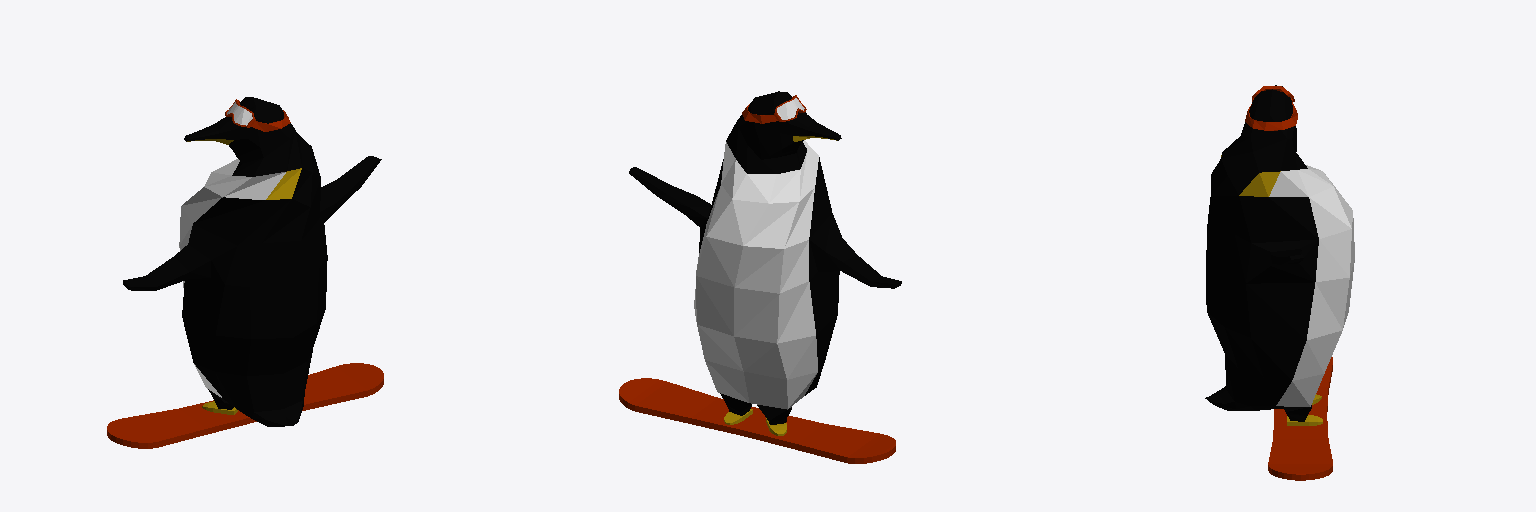
Rendered from PenguinSnowboardOBJ.obj.
3 renders of one model, left to right at view 1: azimuth 30°, elevation 25°; view 2: azimuth 150°, elevation 25°; view 3: azimuth 270°, elevation 25°, orthographic.
Parts seen in each view (by area): view 1: Capsule001; view 2: Capsule001; view 3: Capsule001.
Part boxes in pixels (left/top/right/bottom): Capsule001: left=107, top=97, right=383, bottom=448; Capsule001: left=619, top=91, right=901, bottom=463; Capsule001: left=1205, top=85, right=1354, bottom=480.
Bounding box in the file's own units: 48.85 × 56.7 × 23.65.